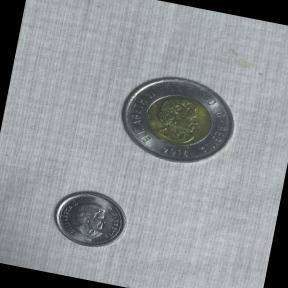Canada-10cent-B: (44, 178, 136, 258)
Canada-2Dollar-B: (108, 64, 246, 180)
